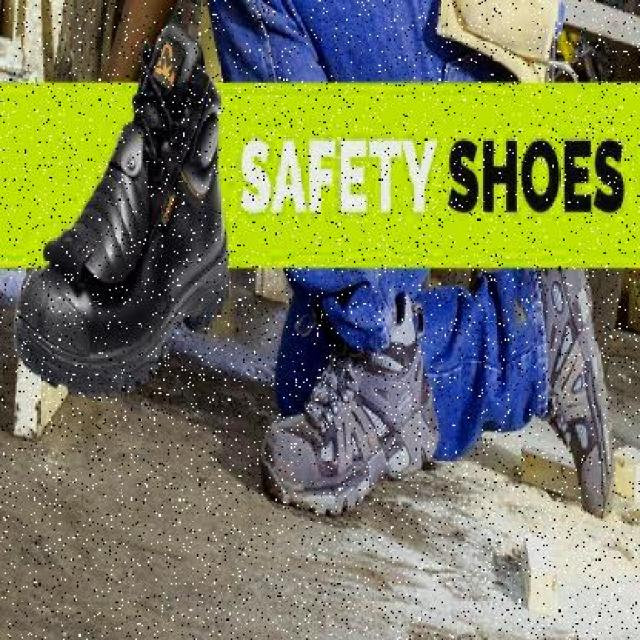shoes: (248, 329, 442, 526), (530, 270, 618, 525)
